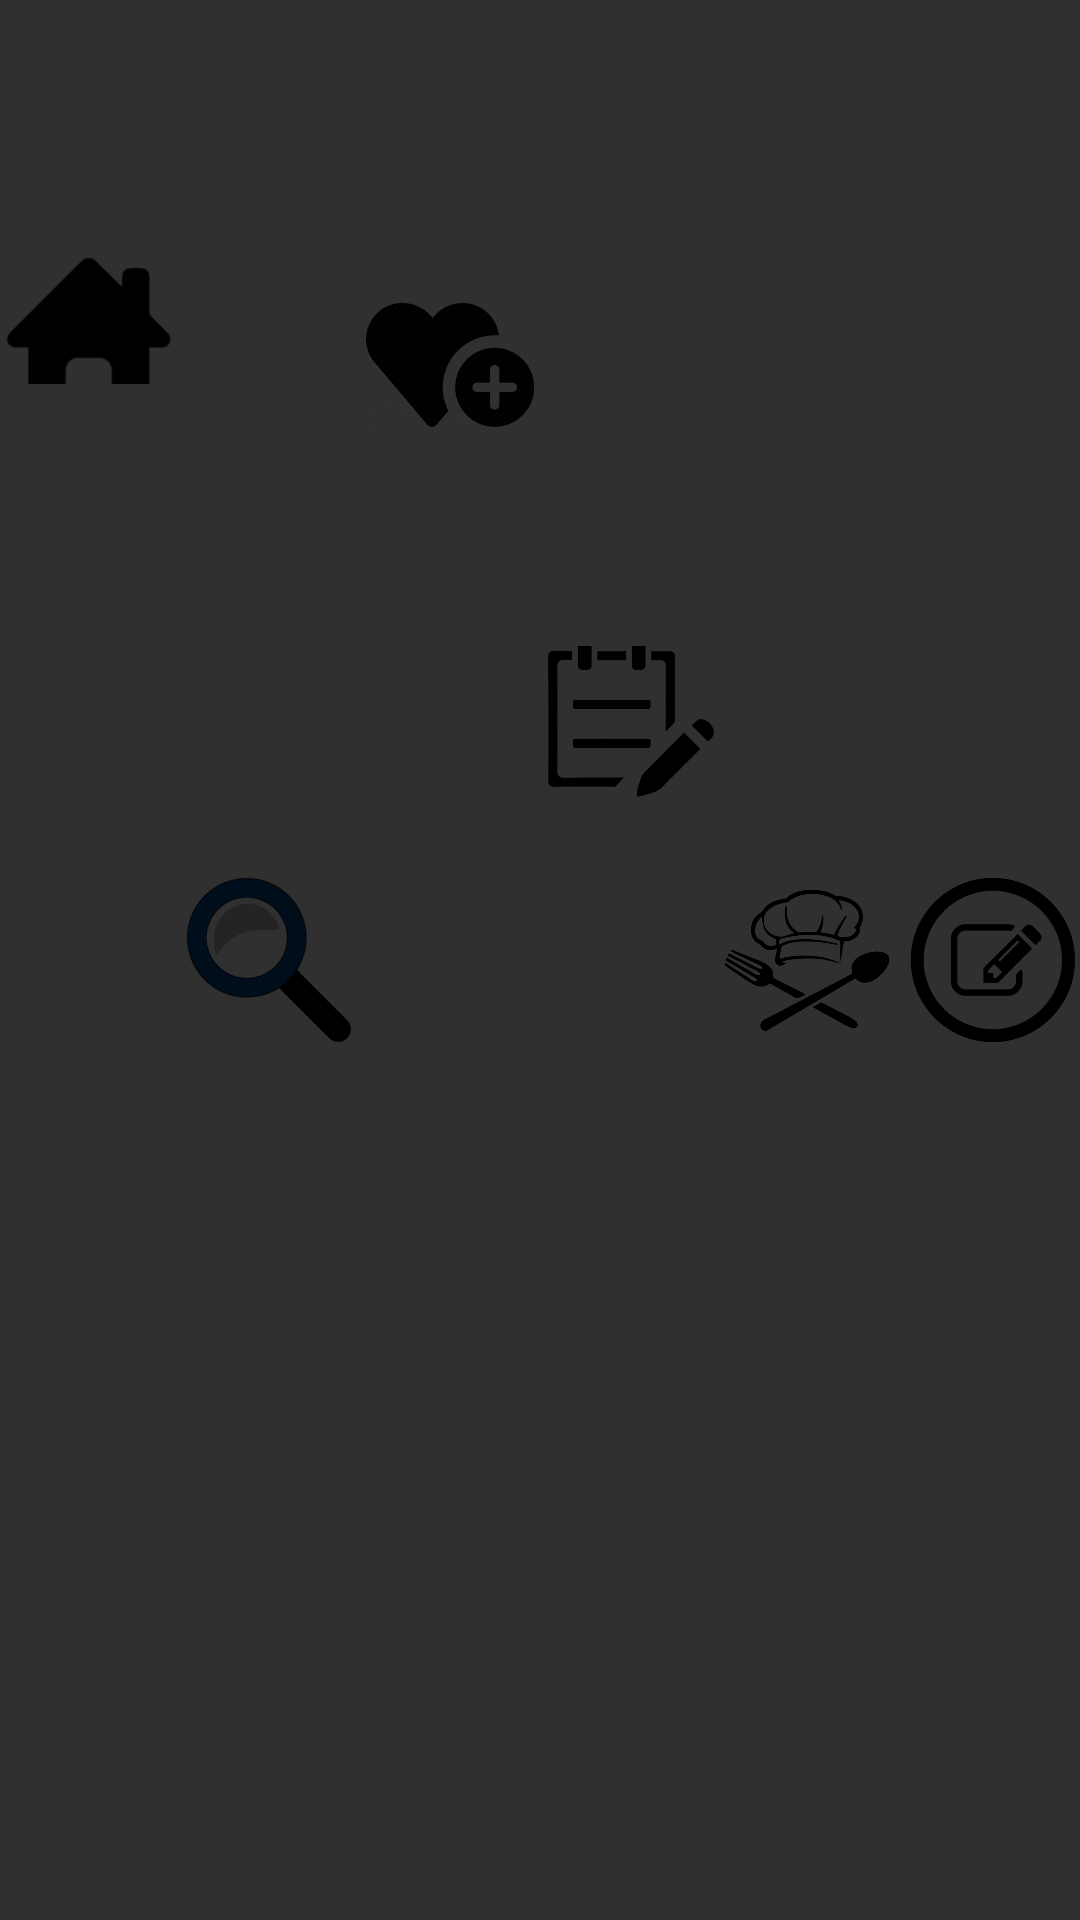

Named icons in this screenshot (1080×1920) and their centers, (x=x, y=y):
chef: (x=807, y=960)
home: (x=88, y=321)
saved: (x=450, y=365)
